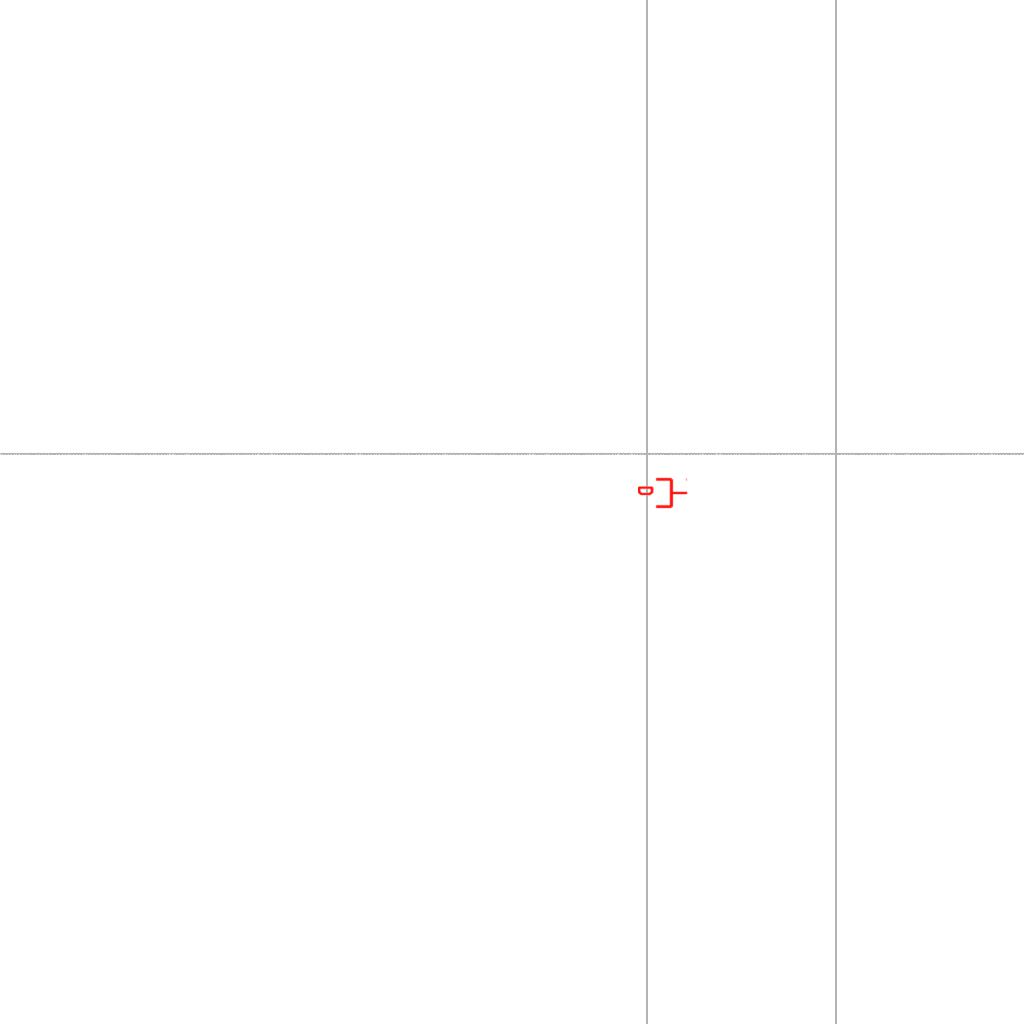Datenanschluss_einfach: (638, 476, 688, 510)
